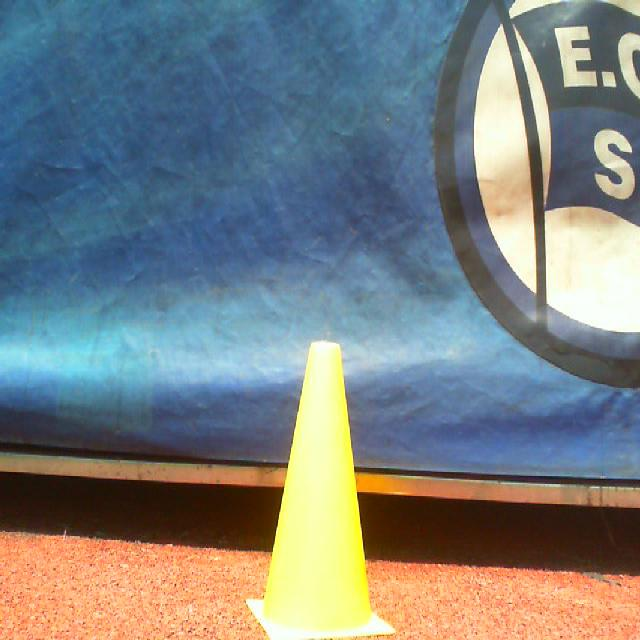cone: (246, 340, 395, 637)
